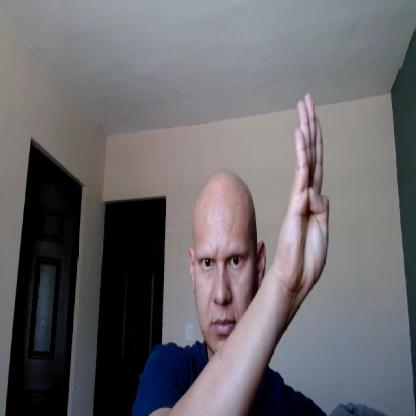B: (277, 92, 330, 297)
